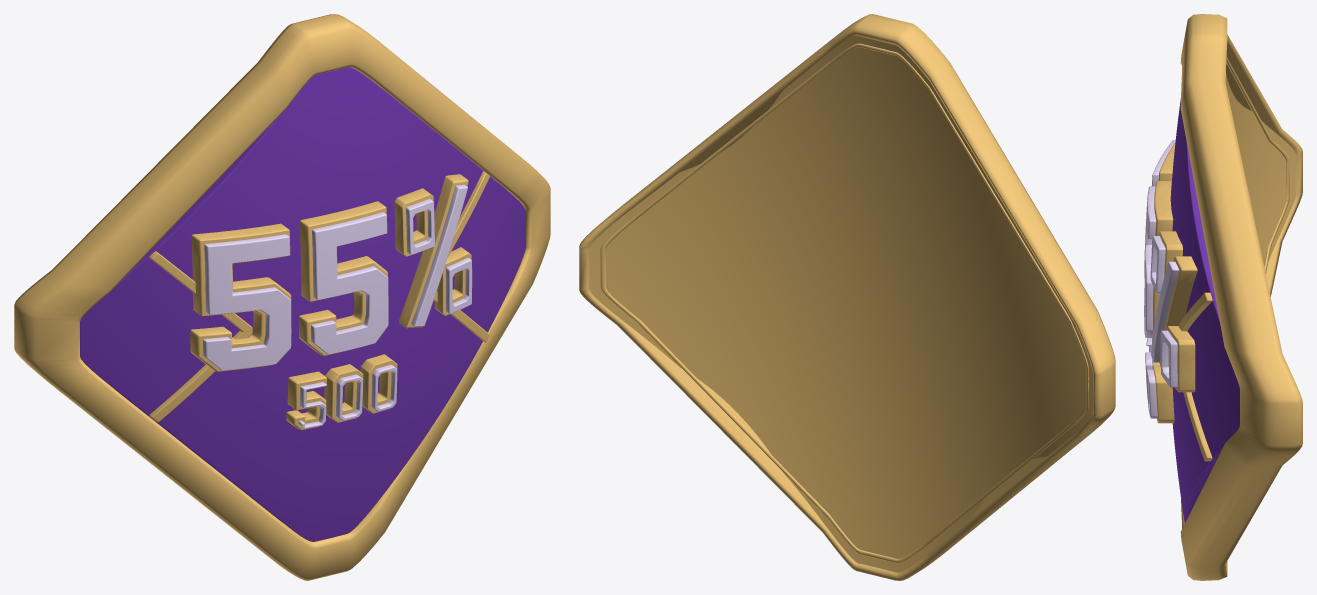
Rendered from consistent-500.glb.
3 views of the same model, side by side, from view 1: azimuth 30°, elevation 25°; view 2: azimuth 150°, elevation 25°; view 3: azimuth 270°, elevation 25° (orthographic).
Parts seen in each view (by area): view 1: acrylic_diamond_face_conforming_008, metal_diamond_frame_008, ivory_number_55pct_0_0_conforming_003, ivory_number_55pct_1_0_conforming_003, metal_number_55pct_0_0_conforming_003, metal_number_55pct_1_0_conforming_003, metal_number_55pct_2_2_conforming_003, ivory_number_55pct_2_2_conforming_003, metal_diamond_divider_left1_conforming_008, metal_number_500_0_0_conforming, metal_number_55pct_2_0_conforming_003, metal_number_500_1_0_conforming (+7 smaller); view 2: satin_diamond_back_conforming_008, metal_diamond_frame_008, satin_diamond_rear_border_008; view 3: metal_diamond_frame_008, acrylic_diamond_face_conforming_008, satin_diamond_back_conforming_008, metal_number_55pct_2_2_conforming_003, ivory_number_55pct_1_0_conforming_003, metal_number_55pct_2_1_conforming_003, metal_diamond_divider_1_conforming_008, ivory_number_55pct_2_2_conforming_003, metal_number_55pct_1_0_conforming_003, satin_diamond_rear_border_008, ivory_number_55pct_2_1_conforming_003, metal_number_500_2_0_conforming (+5 smaller).
Boxes of the visible parts, x1,y1,x2,y2 form: acrylic_diamond_face_conforming_008: (80,67,525,541); metal_diamond_frame_008: (14,14,550,580); ivory_number_55pct_0_0_conforming_003: (203,234,291,370); ivory_number_55pct_1_0_conforming_003: (311,212,388,354); metal_number_55pct_0_0_conforming_003: (190,223,291,371); metal_number_55pct_1_0_conforming_003: (299,201,387,355); metal_number_55pct_2_2_conforming_003: (398,174,468,328); ivory_number_55pct_2_2_conforming_003: (411,184,467,326); metal_diamond_divider_left1_conforming_008: (149,251,252,422); metal_number_500_0_0_conforming: (286,371,326,429); metal_number_55pct_2_0_conforming_003: (394,188,433,256); metal_number_500_1_0_conforming: (324,364,363,422); satin_diamond_back_conforming_008: (589,36,1092,572); metal_diamond_frame_008: (579,14,1115,580); satin_diamond_rear_border_008: (600,43,1088,563); metal_diamond_frame_008: (1180,14,1302,580); acrylic_diamond_face_conforming_008: (1170,98,1239,523); satin_diamond_back_conforming_008: (1225,73,1295,265); metal_number_55pct_2_2_conforming_003: (1159,256,1197,366); ivory_number_55pct_1_0_conforming_003: (1144,186,1156,337); metal_number_55pct_2_1_conforming_003: (1166,326,1195,392); metal_diamond_divider_1_conforming_008: (1178,292,1212,461); ivory_number_55pct_2_2_conforming_003: (1151,261,1179,362); metal_number_55pct_1_0_conforming_003: (1151,181,1173,340); satin_diamond_rear_border_008: (1226,57,1289,273); ivory_number_55pct_2_1_conforming_003: (1160,330,1177,387); metal_number_500_2_0_conforming: (1153,365,1174,423).
Bounding box in the file's own units: 2 × 2 × 0.5269.
